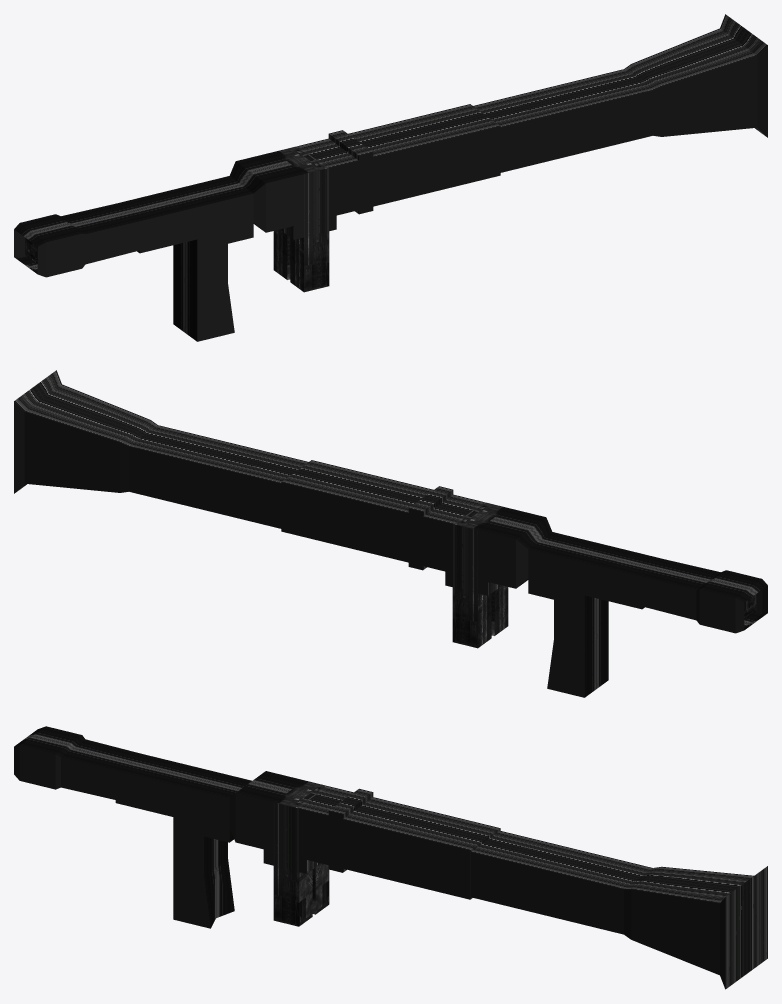
Rendered from launcher-no-rocket.obj.
3 renders of one model, top to bottom at view 1: azimuth 30°, elevation 25°; view 2: azimuth 150°, elevation 25°; view 3: azimuth 330°, elevation 25°, orthographic.
Visible parts, largest first — view 1: launcher; view 2: launcher; view 3: launcher.
Part boxes in pixels (x1,y1,x2,y2): launcher: (14, 14, 767, 341); launcher: (14, 370, 767, 697); launcher: (14, 726, 767, 989).
Size of the model in its own units: 2.61 by 0.5759 by 0.2671.
